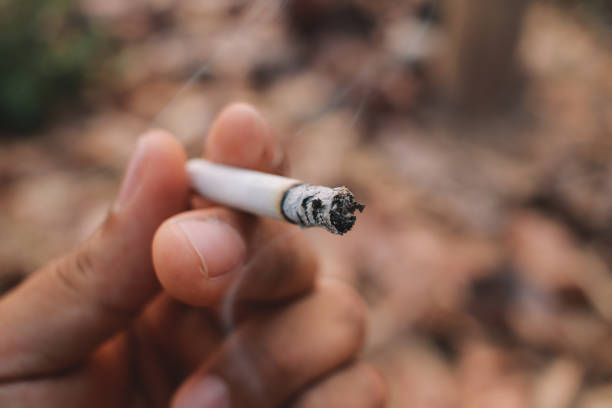cigarette: (186, 156, 366, 238)
